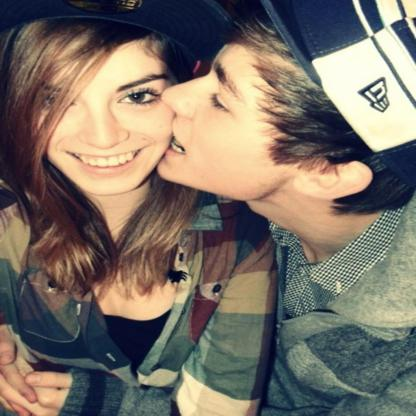face: (160, 29, 350, 202), (33, 43, 178, 194)
